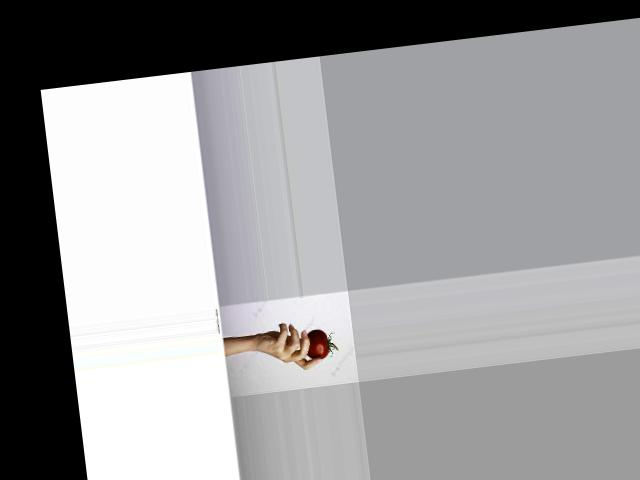tomato: (305, 327, 339, 359)
